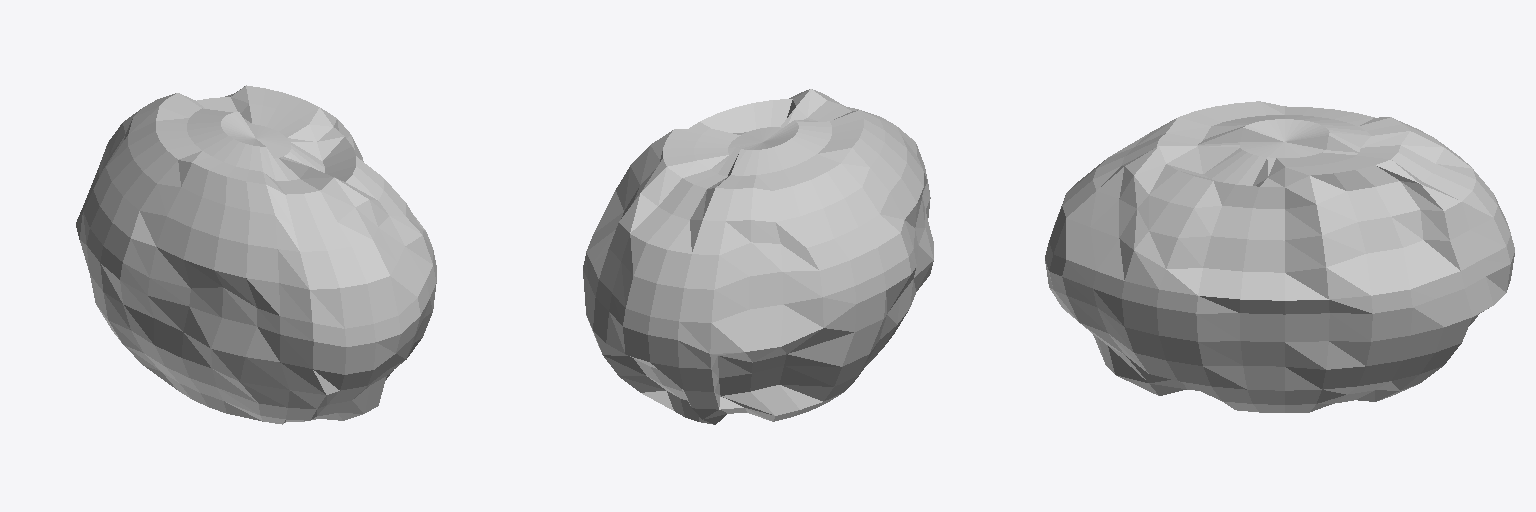
File: asteroide.obj
3 views of the same model, side by side, from view 1: azimuth 30°, elevation 25°; view 2: azimuth 150°, elevation 25°; view 3: azimuth 270°, elevation 25° (orthographic).
Visible parts, largest first — view 1: Asteroide_Sphere; view 2: Asteroide_Sphere; view 3: Asteroide_Sphere.
Boxes of the visible parts, x1=… form: Asteroide_Sphere: x1=76, y1=85, x2=436, y2=424; Asteroide_Sphere: x1=583, y1=89, x2=933, y2=424; Asteroide_Sphere: x1=1045, y1=101, x2=1514, y2=412.
Bounding box in the file's own units: 3.09 × 2.64 × 4.51.